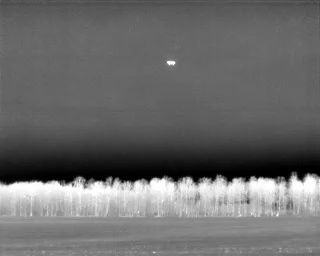DRONE: (163, 56, 179, 70)
